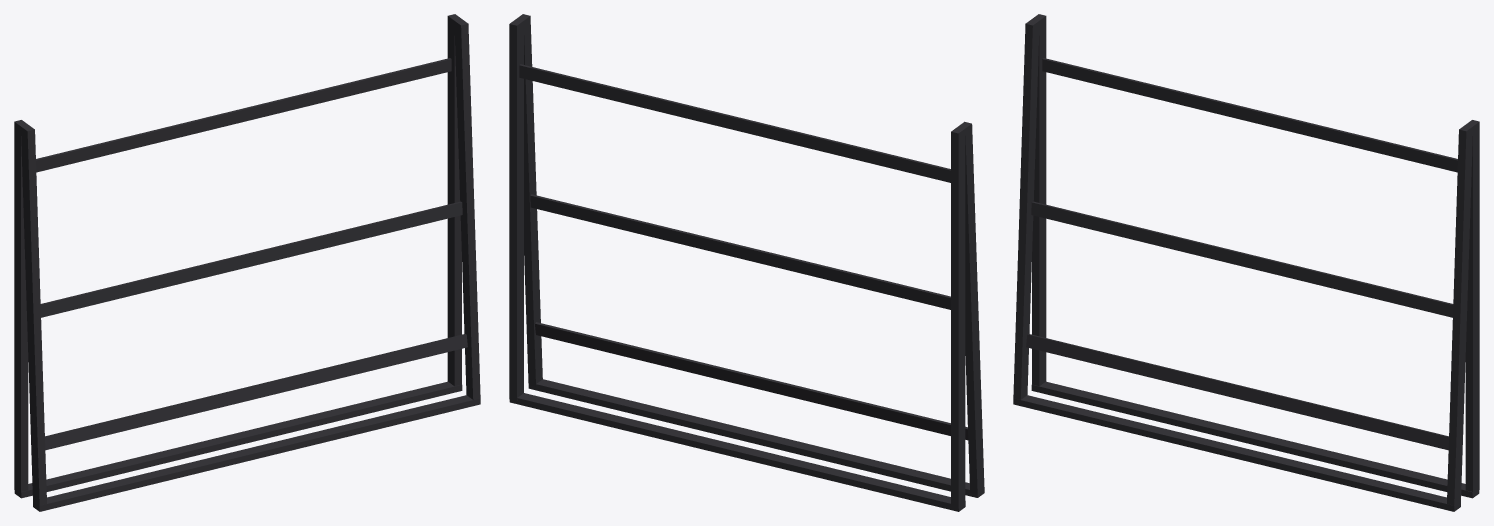
Rendered from Support_Baionnette.FBX.
3 views of the same model, side by side, from view 1: azimuth 30°, elevation 25°; view 2: azimuth 150°, elevation 25°; view 3: azimuth 330°, elevation 25° (orthographic).
Parts seen in each view (by area): view 1: Support_Baionnette; view 2: Support_Baionnette; view 3: Support_Baionnette.
Boxes of the visible parts, x1=… form: Support_Baionnette: x1=14, y1=14, x2=480, y2=511; Support_Baionnette: x1=509, y1=14, x2=984, y2=511; Support_Baionnette: x1=1013, y1=14, x2=1479, y2=511.
Bounding box in the file's own units: 143 × 115 × 14.32.
Materials: 1 (1 with a texture image).
